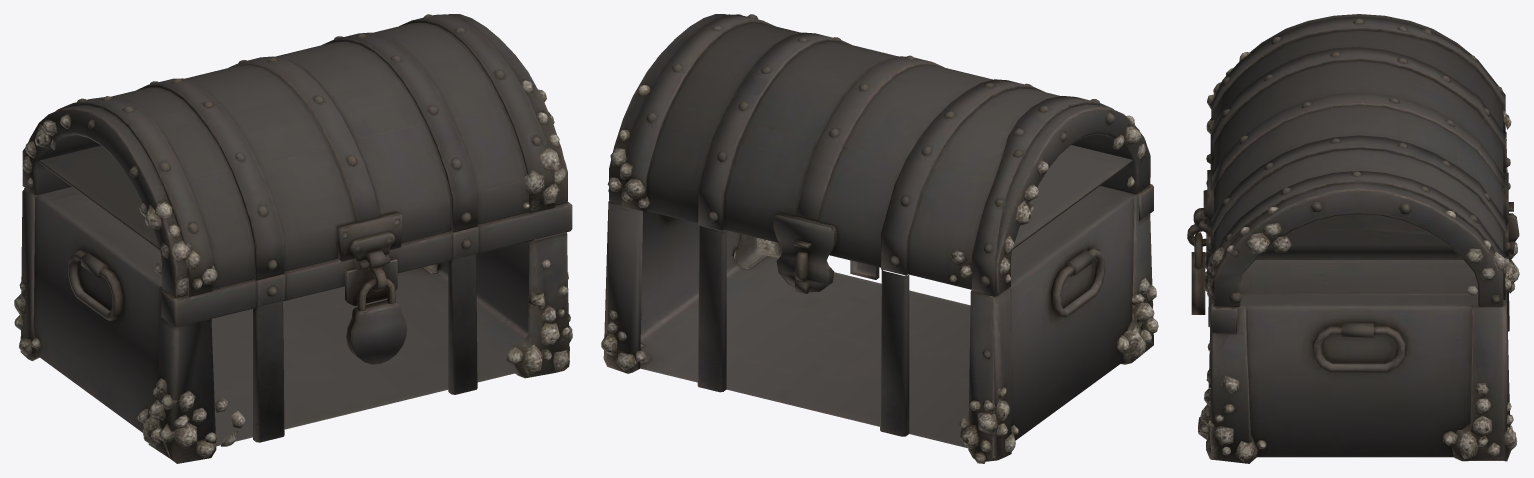
Rendered from 0244_stone_chest.glb.
3 views of the same model, side by side, from view 1: azimuth 30°, elevation 25°; view 2: azimuth 150°, elevation 25°; view 3: azimuth 270°, elevation 25° (orthographic). The views are drawn at different scales.
Visible parts, largest first — view 1: tripo_node_f5a55c30-6c77-4008-a45d-e4eea2881bde; view 2: tripo_node_f5a55c30-6c77-4008-a45d-e4eea2881bde; view 3: tripo_node_f5a55c30-6c77-4008-a45d-e4eea2881bde.
Boxes of the visible parts, bbox=[...] form: tripo_node_f5a55c30-6c77-4008-a45d-e4eea2881bde: bbox=[14, 14, 572, 463]; tripo_node_f5a55c30-6c77-4008-a45d-e4eea2881bde: bbox=[601, 14, 1158, 463]; tripo_node_f5a55c30-6c77-4008-a45d-e4eea2881bde: bbox=[1187, 14, 1519, 463].
Bounding box in the file's own units: 0.9995 × 0.6782 × 0.728.
Materials: 1 (1 with a texture image).
